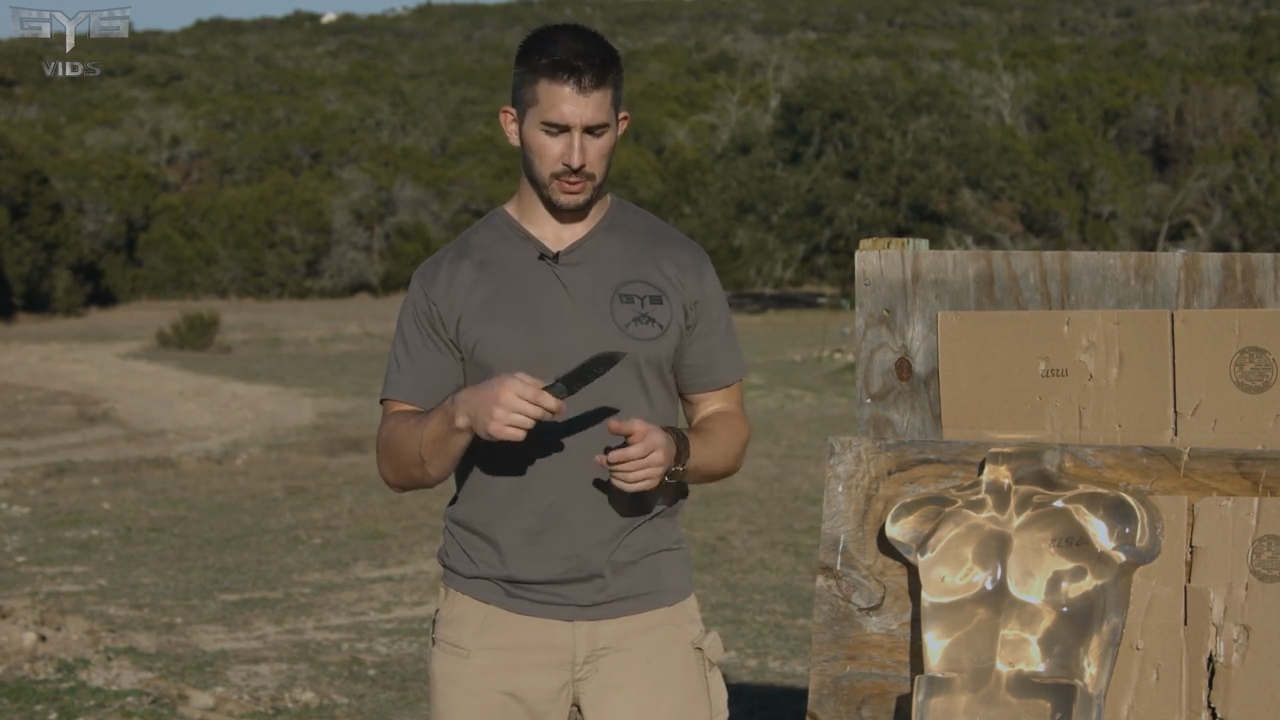knife: (472, 339, 639, 444)
